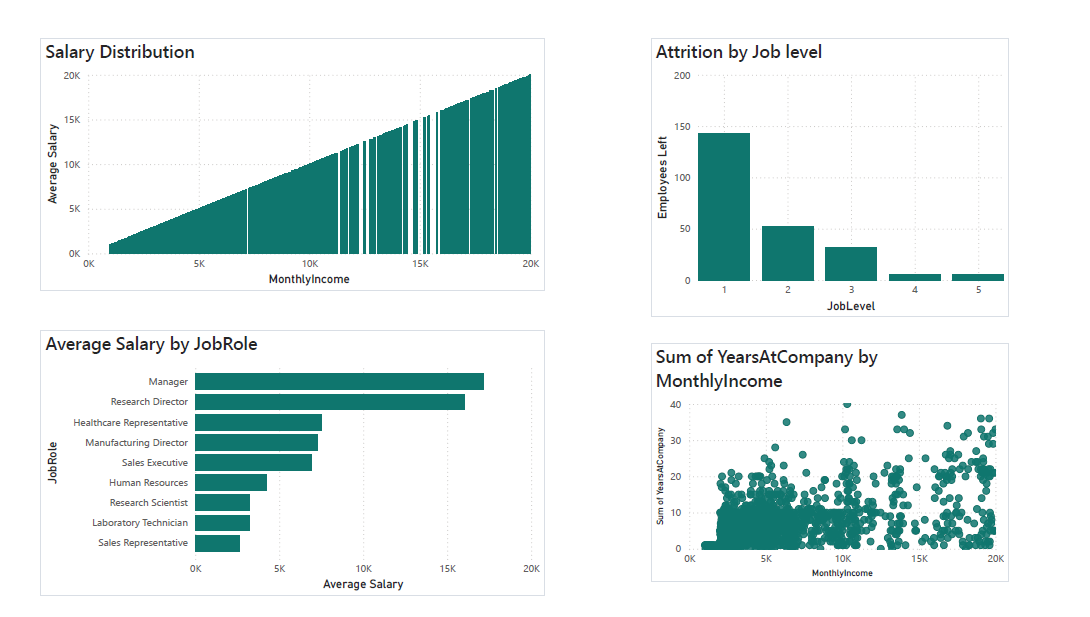

Layout of this report page (visuals, bound fields, positions):
{"tool":"powerbi","page":{"name":"Salary Analysis","canvas":[1280,720],"ordinal":2},"visuals":[{"type":"columnChart","title":"Salary Distribution","fields":{"Y":["WA_Fn-UseC_-HR-Employee-Attrition.Average Salary"],"Category":["WA_Fn-UseC_-HR-Employee-Attrition.MonthlyIncome"]},"box":[32,32,608,304],"z":0},{"type":"barChart","fields":{"Category":["WA_Fn-UseC_-HR-Employee-Attrition.JobRole"],"Y":["WA_Fn-UseC_-HR-Employee-Attrition.Average Salary"]},"box":[32,384,608,320],"z":1000},{"type":"columnChart","title":"Attrition by Job level","fields":{"Category":["WA_Fn-UseC_-HR-Employee-Attrition.JobLevel"],"Y":["WA_Fn-UseC_-HR-Employee-Attrition.Employees Left"]},"box":[768,32,432,336],"z":2000},{"type":"scatterChart","fields":{"Y":["Sum(WA_Fn-UseC_-HR-Employee-Attrition.YearsAtCompany)"],"X":["WA_Fn-UseC_-HR-Employee-Attrition.MonthlyIncome"]},"box":[768,400,432,288],"z":3000}]}

Visuals, with their boxes in screenshot pixels (x1, y1, x2, y2), scaled from the page's 1280x720 canvas onto the 1090x617 screenshot:
"Salary Distribution" columnChart: [left=27, top=27, right=545, bottom=288]
barChart - WA_Fn-UseC_-HR-Employee-Attrition.JobRole x WA_Fn-UseC_-HR-Employee-Attrition.Average Salary: [left=27, top=329, right=545, bottom=603]
"Attrition by Job level" columnChart: [left=654, top=27, right=1022, bottom=315]
scatterChart - Sum(WA_Fn-UseC_-HR-Employee-Attrition.YearsAtCompany) x WA_Fn-UseC_-HR-Employee-Attrition.MonthlyIncome: [left=654, top=343, right=1022, bottom=590]
